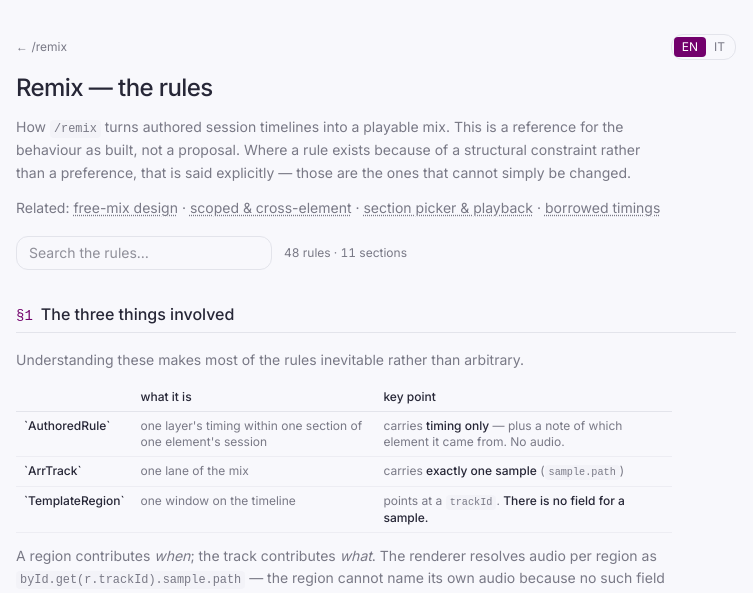
Test: RulebookPage — language switch › keeps a rule’s live panel working in Italian
The width and height of the screenshot is (753, 593).
Click the button "IT": (720, 47) [706,37,733,57]
(page scrolled)
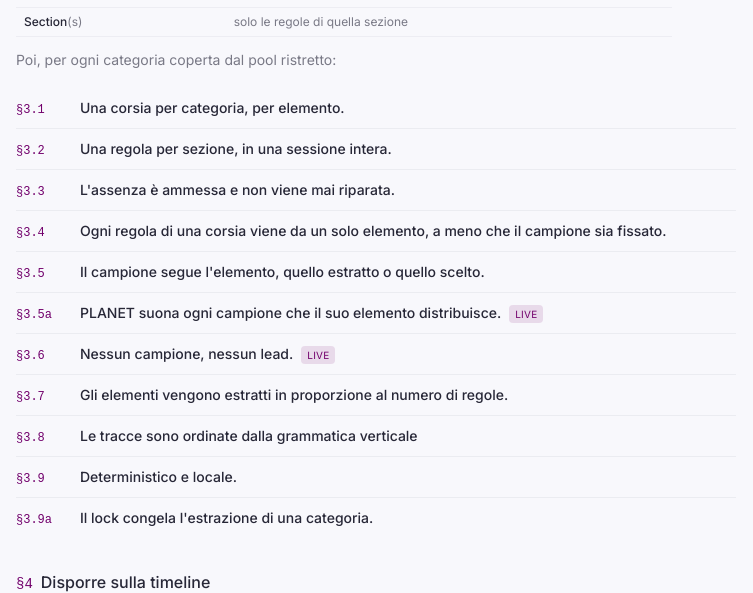
Click the button "§3.6 Nessun campione, nessun lead. live": (187, 354) [16,334,736,374]
(page scrolled)
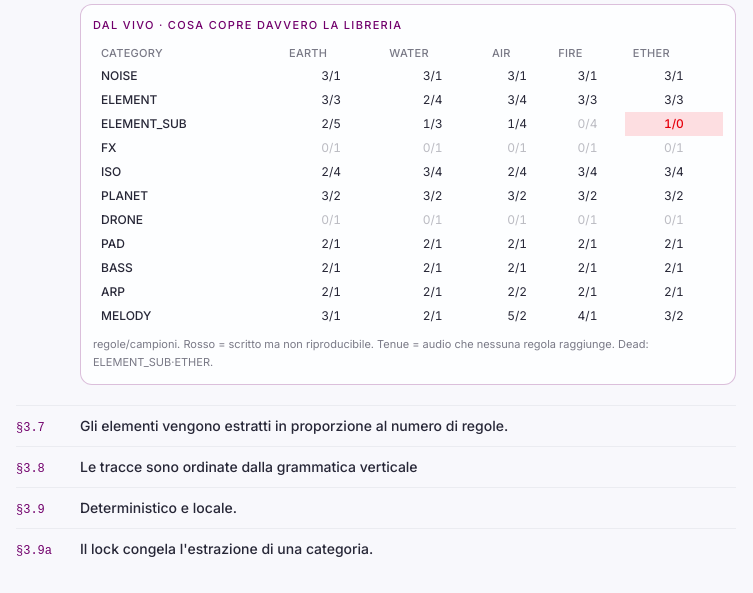
Check: the heading "Dal vivo · cosa copre davvero la libreria" is shown, box [93,18,402,32]
Check: the text "ELEMENT_SUB·ETHER" is shown, box [93,337,649,369]
